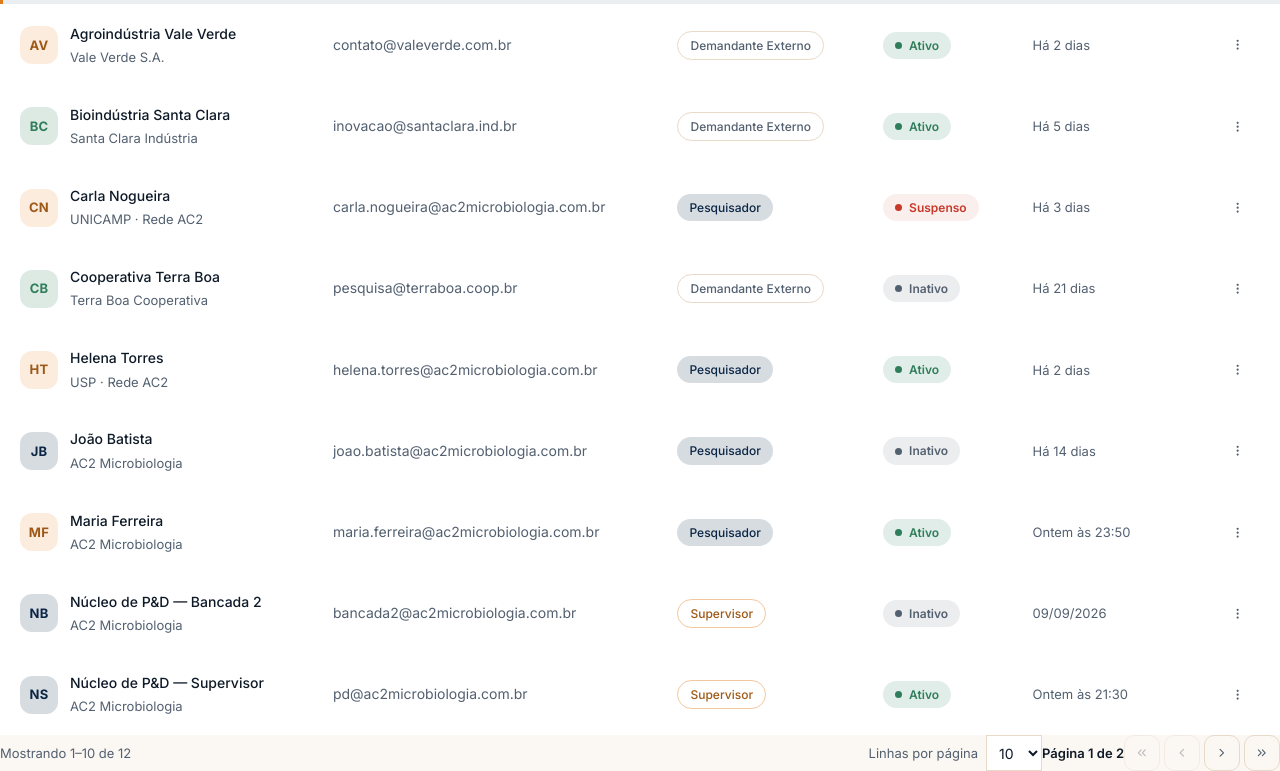
Test case: UsersSection › pagina a lista e respeita o tamanho de página
The width and height of the screenshot is (1280, 771).
(page scrolled)
Expected: the text "Maria Ferreira" is shown, 70,512 -> 163,529
Expected: the text "Mostrando 1–10 de 12" is shown, 0,743 -> 131,764
Click the button named "próxima página" at (1222, 753), box 1204,735 -> 1240,770
(page scrolled)
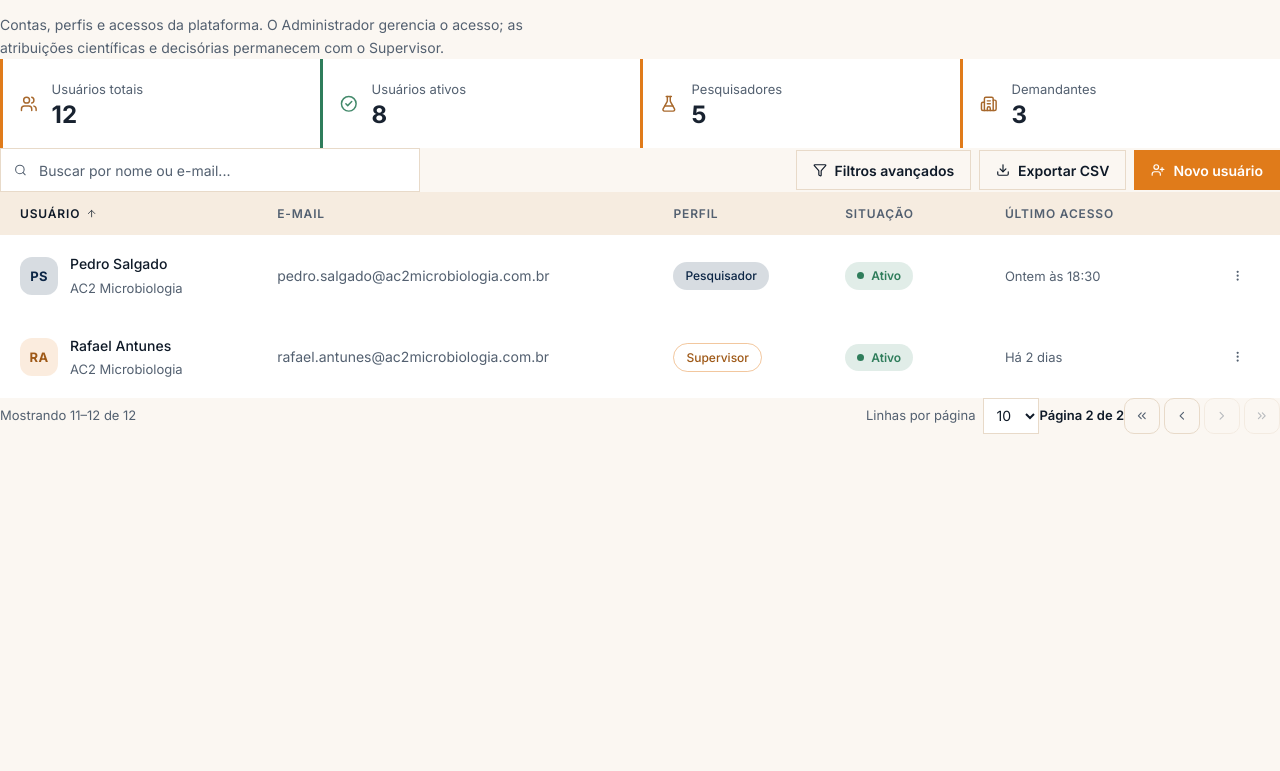
Expected: the button named "próxima página" is disabled, 1204,398 -> 1240,434
Now the text "Mostrando 11–12 de 12" is shown, box 0,405 -> 136,426
Select "25" in the dropdown labelled "Linhas por página" at (1012, 416), box 984,398 -> 1040,434
(page scrolled)
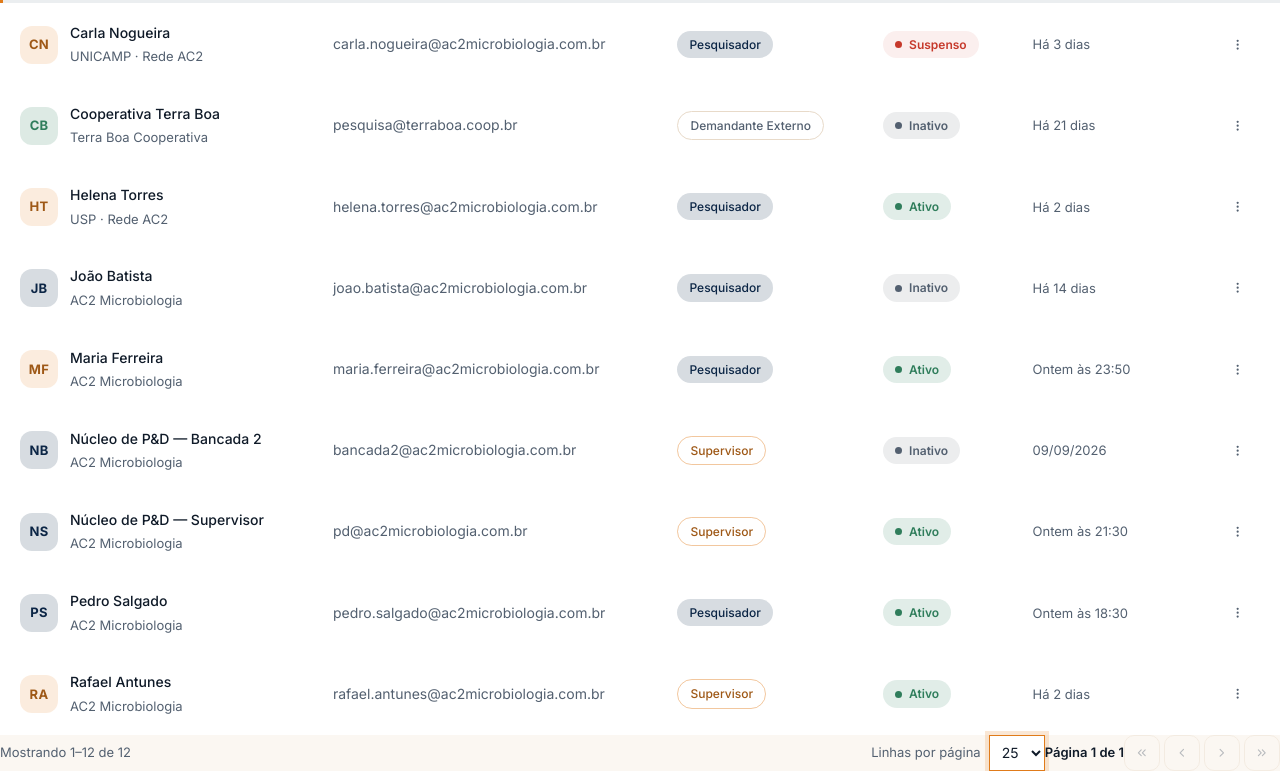
Now the text "Mostrando 1–12 de 12" is shown, box 0,742 -> 131,763
